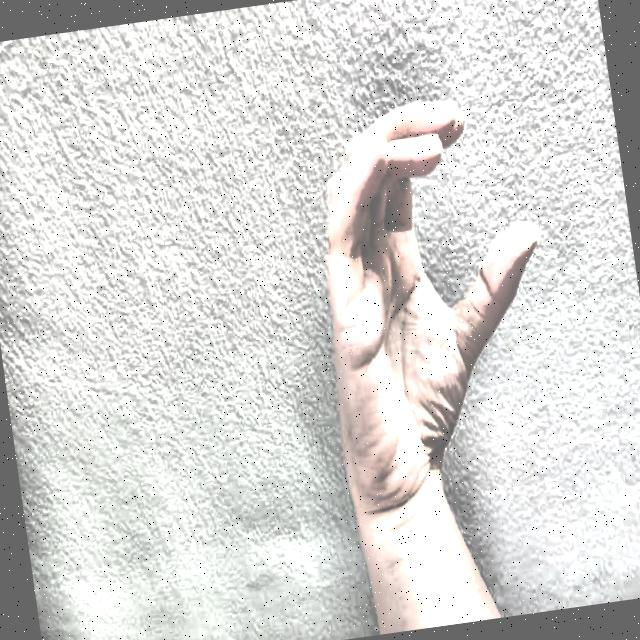A: (258, 46, 594, 546)
